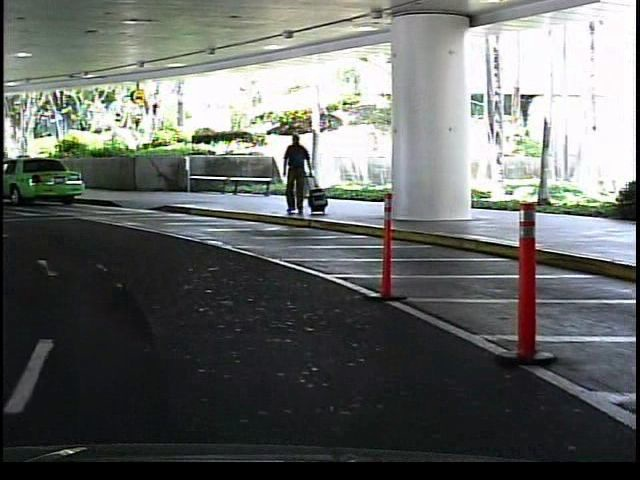person: (280, 127, 318, 220)
